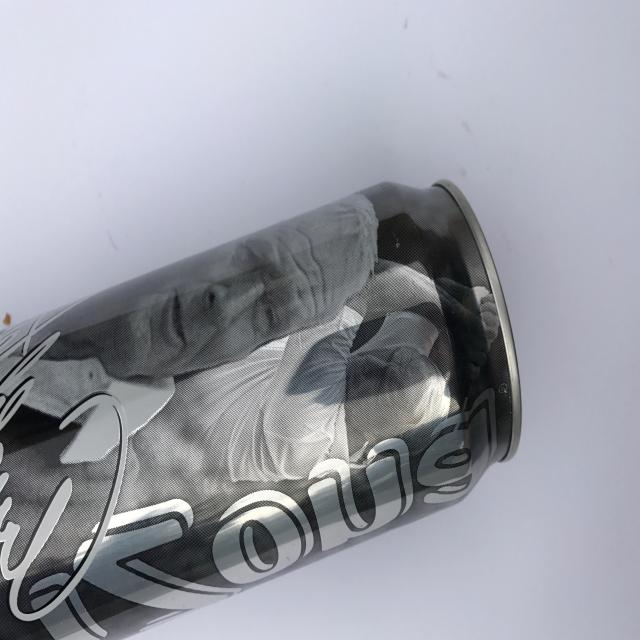metal: (0, 177, 523, 640)
